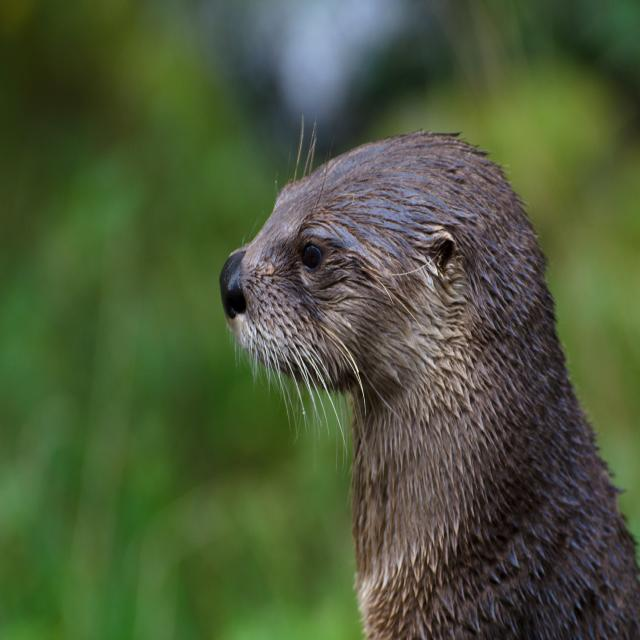otter: (222, 131, 640, 640)
